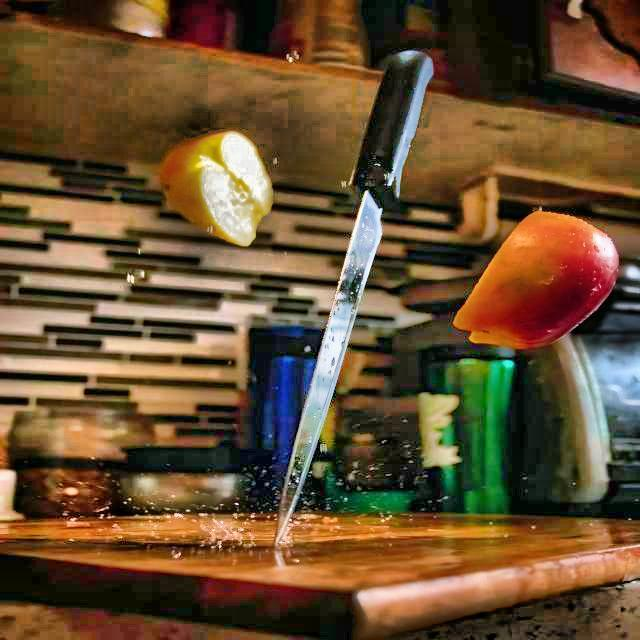knife: (242, 49, 454, 557)
